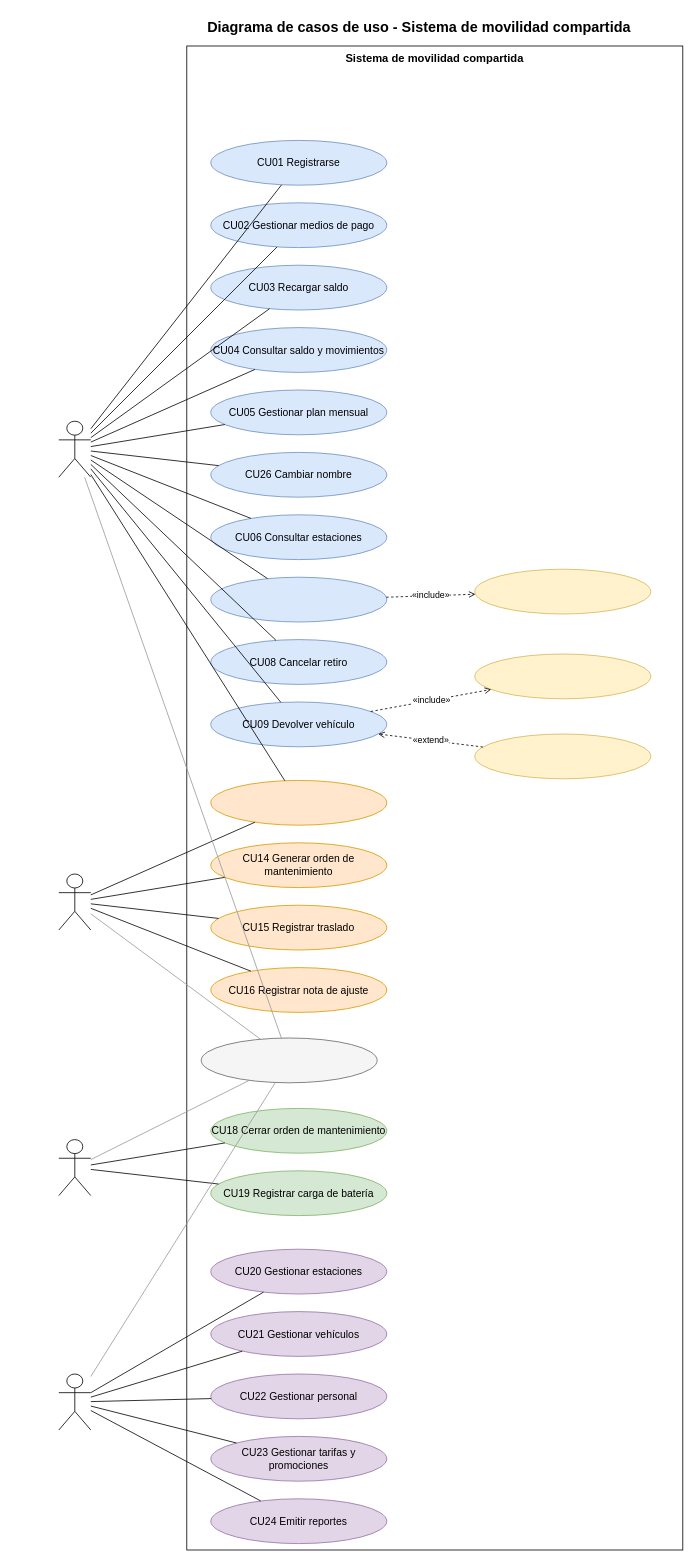
Image size: 697x1564. Some labels were removed from this diagram. Here are the shapes that lost their labels. From the top down, the centre of each, then its label:
At (x=74, y=448): "Usuario".
At (x=298, y=599): "CU07 Retirar vehículo".
At (x=562, y=591): "CU10 Verificar habilitación del usuario".
At (x=562, y=676): "CU11 Calcular tarifa".
At (x=562, y=756): "CU12 Desviar a otra estación".
At (x=298, y=802): "CU13 Reportar falla".
At (x=74, y=901): "Operador del sistema".
At (x=288, y=1060): "CU25 Iniciar sesión".
At (x=74, y=1167): "Técnico de mantenimiento".
At (x=74, y=1401): "Administrador".
